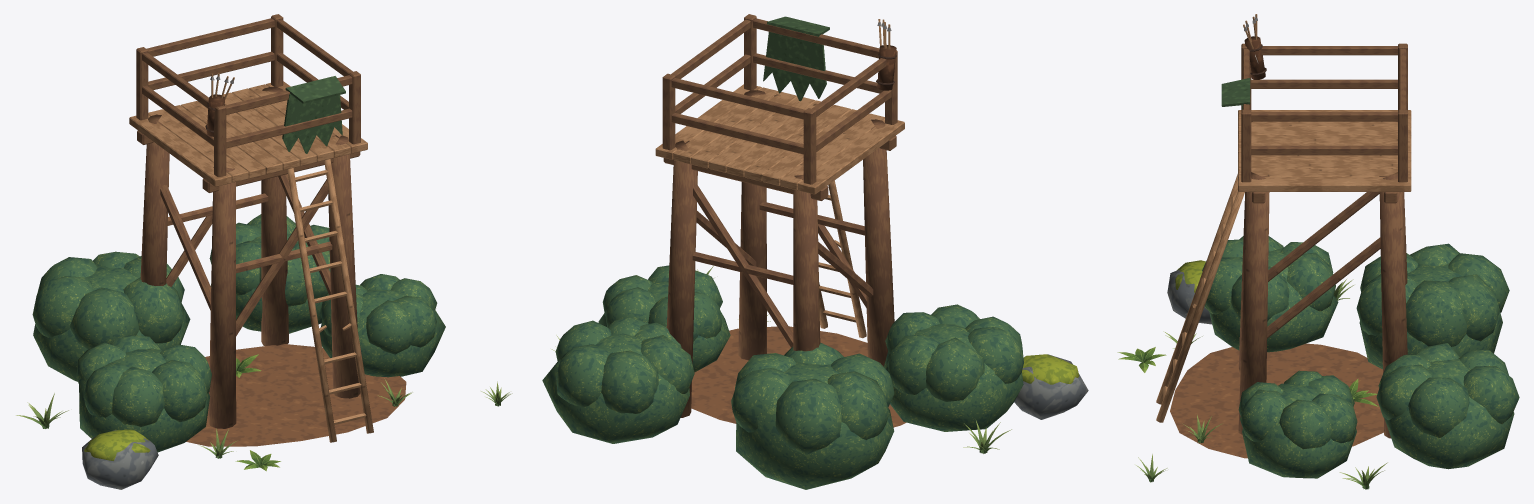
File: ev08_tower.glb
3 views of the same model, side by side, from view 1: azimuth 30°, elevation 25°; view 2: azimuth 150°, elevation 25°; view 3: azimuth 270°, elevation 25° (orthographic). The views are drawn at different scales.
Visible parts, largest first — view 1: ev08_tower_tower, ev08_tower_bushes, ev08_tower_ground_details, ev08_tower_gear, ev08_tower_plants; view 2: ev08_tower_bushes, ev08_tower_tower, ev08_tower_ground_details, ev08_tower_gear; view 3: ev08_tower_bushes, ev08_tower_tower, ev08_tower_ground_details, ev08_tower_plants, ev08_tower_gear.
Boxes of the visible parts, <box> form: ev08_tower_tower: <box>129,14,373,442</box>; ev08_tower_bushes: <box>32,214,445,452</box>; ev08_tower_ground_details: <box>82,344,406,489</box>; ev08_tower_gear: <box>205,73,345,153</box>; ev08_tower_plants: <box>16,354,512,471</box>; ev08_tower_bushes: <box>542,265,1023,489</box>; ev08_tower_tower: <box>655,14,904,417</box>; ev08_tower_ground_details: <box>691,326,1088,427</box>; ev08_tower_gear: <box>763,16,896,101</box>; ev08_tower_bushes: <box>1202,236,1519,478</box>; ev08_tower_tower: <box>1156,43,1411,438</box>; ev08_tower_ground_details: <box>1167,260,1383,458</box>; ev08_tower_plants: <box>1117,279,1387,489</box>; ev08_tower_gear: <box>1221,14,1266,109</box>.
Size of what is drawn, in the model's own units: 5.98 by 4.96 by 4.88.
Materials: 14 (14 with a texture image).
